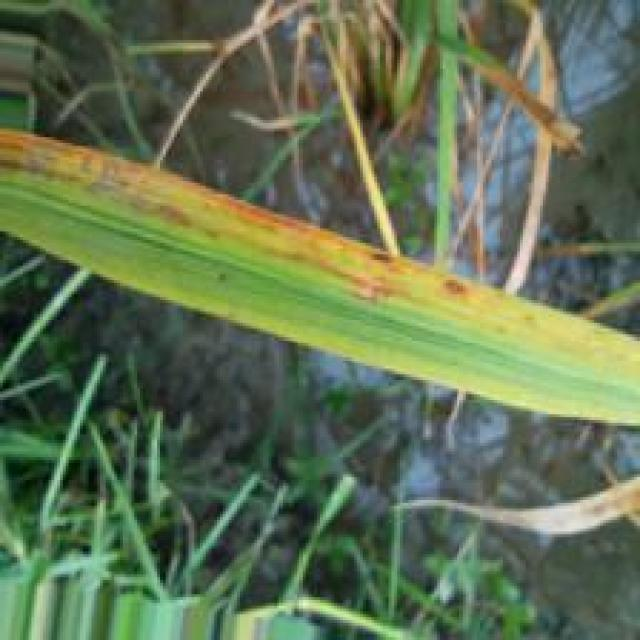Bacterial_Leaf_Blight: (1, 129, 476, 303), (340, 275, 404, 303)
